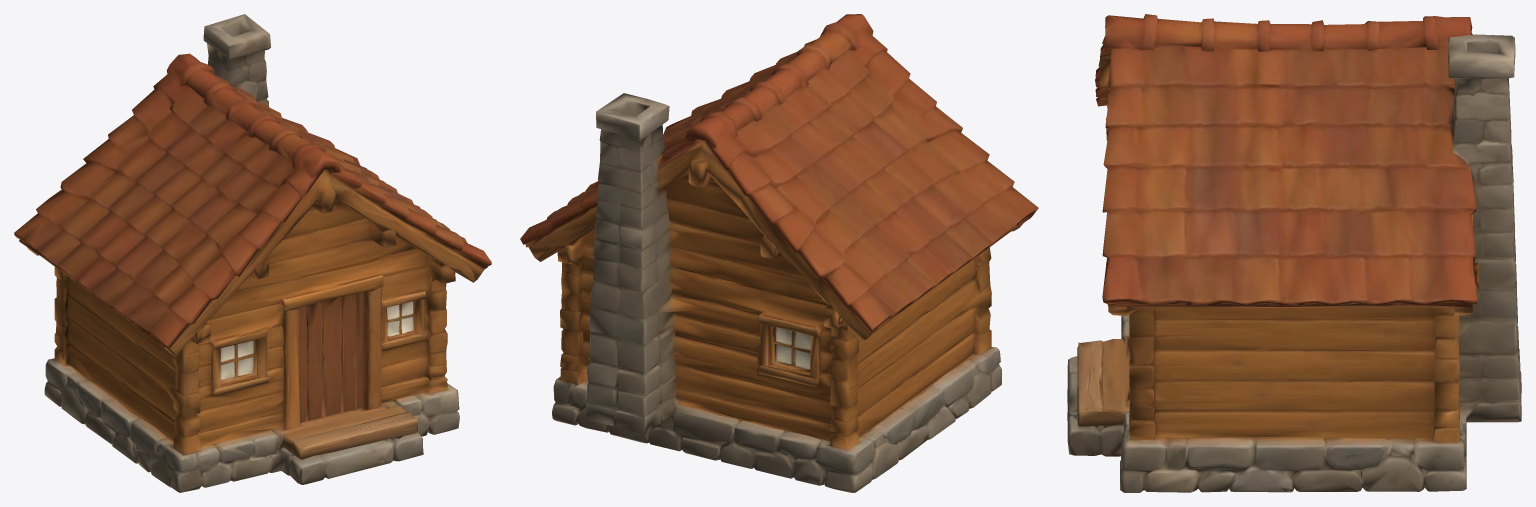
File: cabin.glb
The picture shows the model from 3 angles, left to right: view 1: azimuth 30°, elevation 25°; view 2: azimuth 150°, elevation 25°; view 3: azimuth 270°, elevation 25°; orthographic projection. The views are drawn at different scales.
Parts seen in each view (by area): view 1: cabin; view 2: cabin; view 3: cabin.
Boxes of the visible parts, <box> form: cabin: <box>14,14,491,492</box>; cabin: <box>520,14,1038,492</box>; cabin: <box>1067,14,1521,492</box>.
Size of the model in its own units: 0.9834 by 0.8878 by 0.9182.
Materials: 1 (1 with a texture image).
